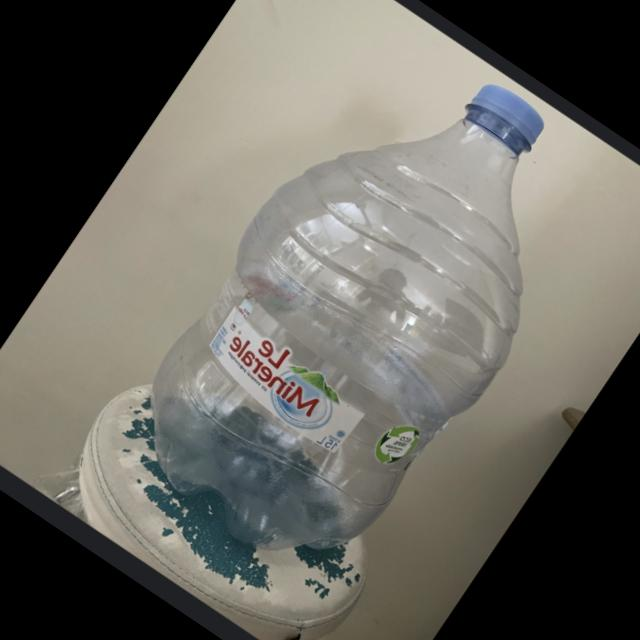Galon: (92, 17, 633, 620)
